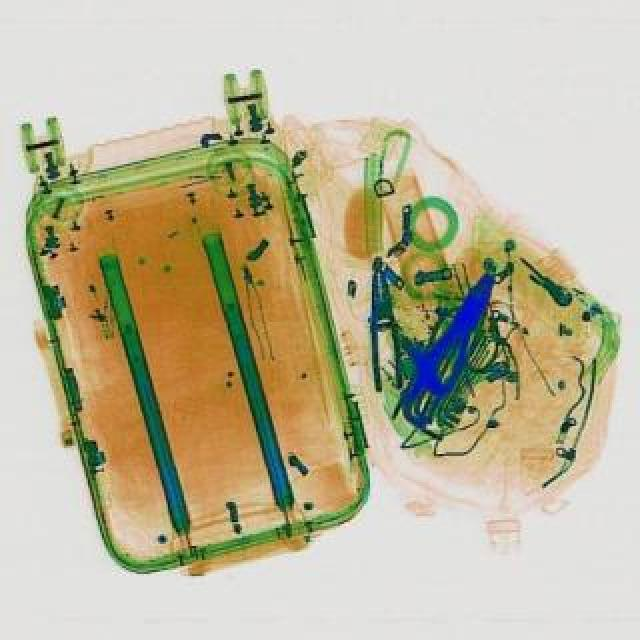wrench: (392, 262, 516, 428), (364, 266, 410, 390)
